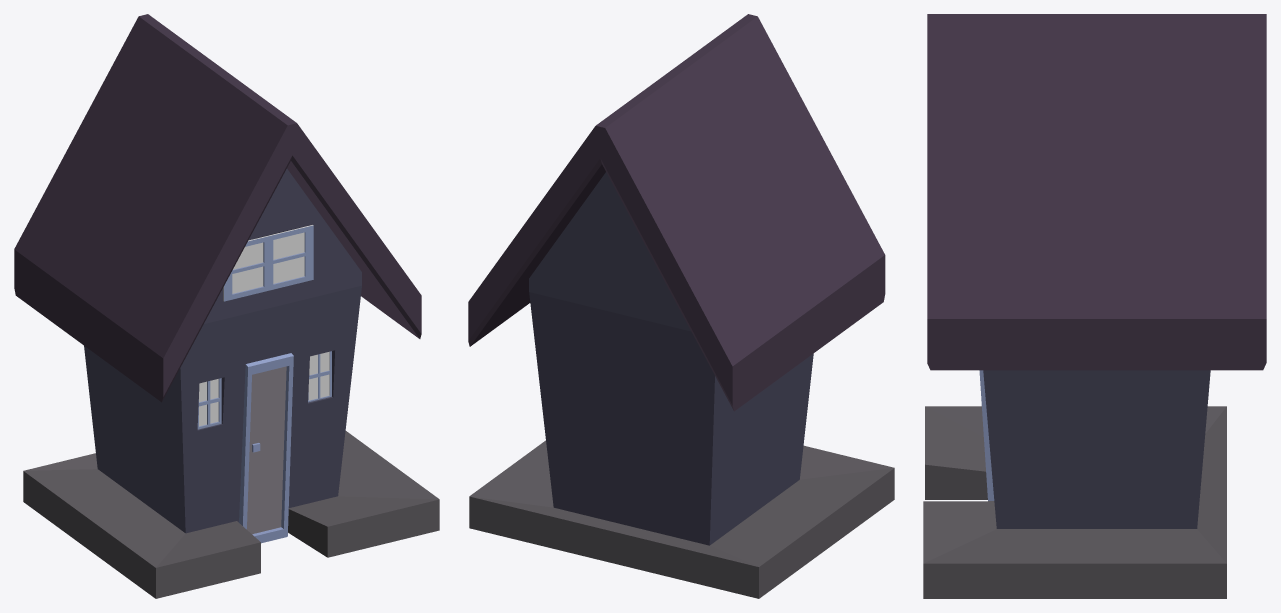
File: HOUSE TALL (BLUE).fbx
3 views of the same model, side by side, from view 1: azimuth 30°, elevation 25°; view 2: azimuth 150°, elevation 25°; view 3: azimuth 270°, elevation 25° (orthographic). The views are drawn at different scales.
Visible parts, largest first — view 1: Roof, House, Door, Front Windows.001, Front Windows; view 2: House, Roof; view 3: Roof, House, Door.
Part boxes in pixels (bbox=[...]): Roof: bbox=[14, 14, 421, 402]; House: bbox=[23, 169, 439, 598]; Door: bbox=[239, 353, 293, 543]; Front Windows.001: bbox=[223, 225, 313, 301]; Front Windows: bbox=[197, 351, 331, 429]; House: bbox=[469, 172, 894, 598]; Roof: bbox=[468, 14, 885, 411]; Roof: bbox=[927, 14, 1266, 370]; House: bbox=[923, 370, 1226, 598]; Door: bbox=[979, 370, 994, 500].
Bounding box in the file's own units: 1239 × 1841 × 1143.
